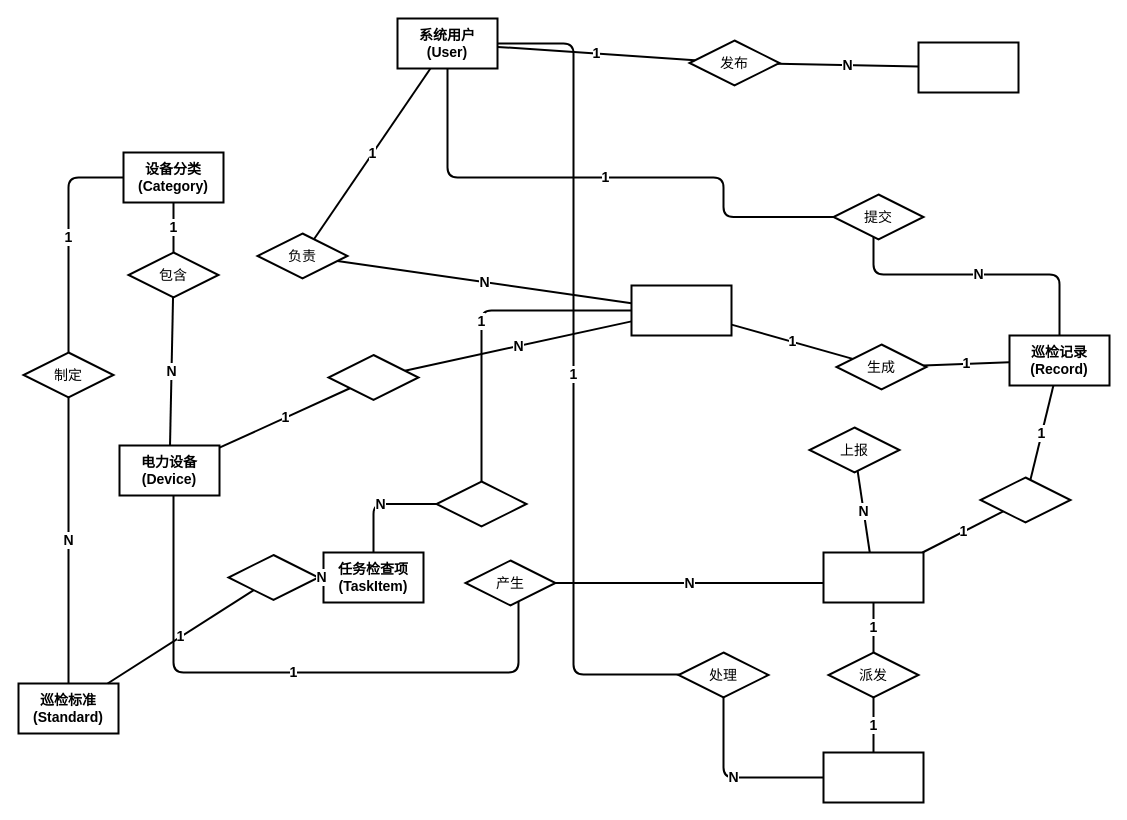
Image size: 1127x820. Some labels were removed from this diagram. Here are the shapes that lost their labels. From the top down, the centre of each, then its label:
At point 968,67: "系统公告 (Notice)".
At point 681,310: "巡检任务 (Task)".
At point 373,377: "针对".
At point 481,503: "拆分".
At point 1025,499: "发现".
At point 273,577: "参照".
At point 873,577: "设备缺陷 (Defect)".
At point 873,777: "维修工单 (RepairOrder)".
